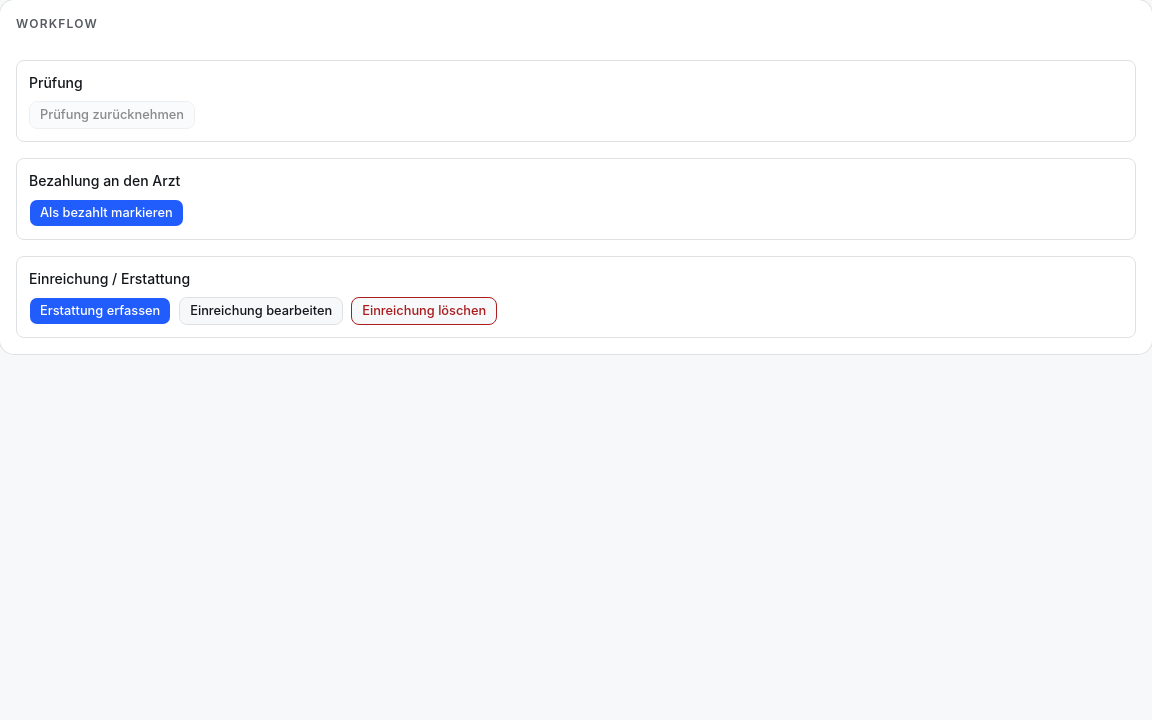
InvoiceStatusFlow — Einreichung / Erstattung track › closes the refund form when Abbrechen is clicked
Click the button "Erstattung erfassen" at (100, 311), box [29,297,171,325]
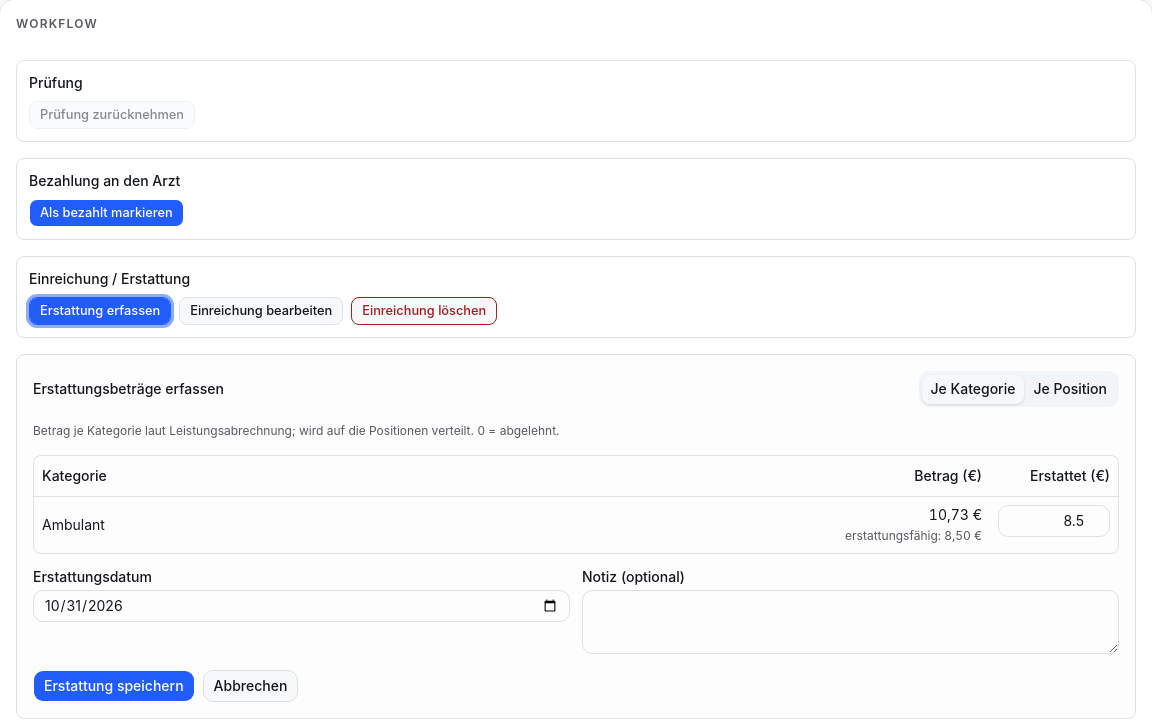
Check: the text "Erstattungsbeträge erfassen" is shown, box [33,379,224,399]
Click the button "Abbrechen" at (250, 686), box [203,670,298,702]
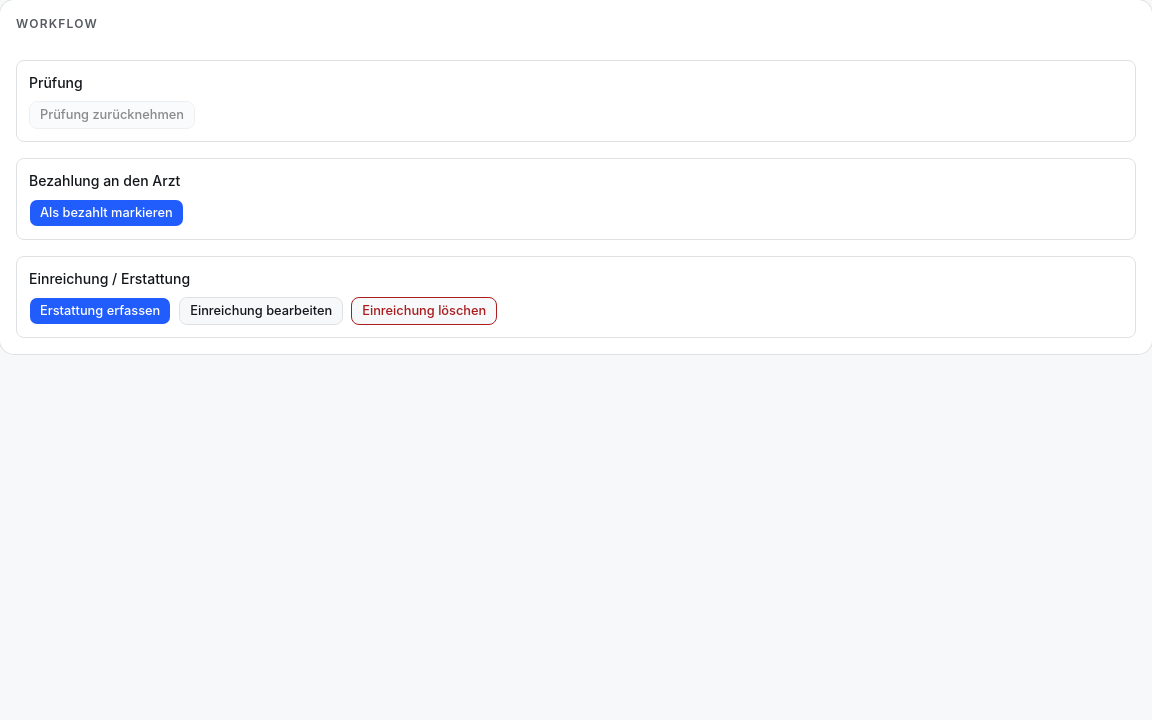
Check: the text "Erstattungsbeträge erfassen" is gone
